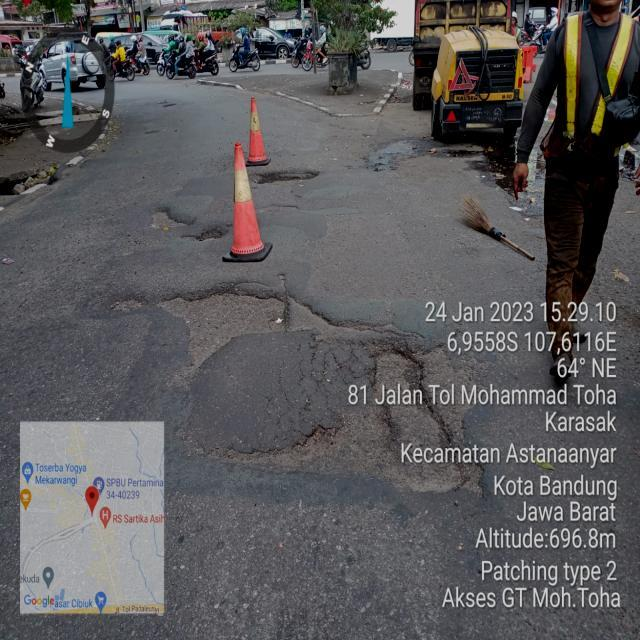Buraco: (150, 270, 491, 503), (356, 135, 442, 174), (0, 158, 73, 200), (248, 168, 322, 187), (147, 205, 200, 231), (104, 290, 152, 316), (178, 223, 232, 244), (162, 102, 178, 109), (156, 99, 169, 105)
